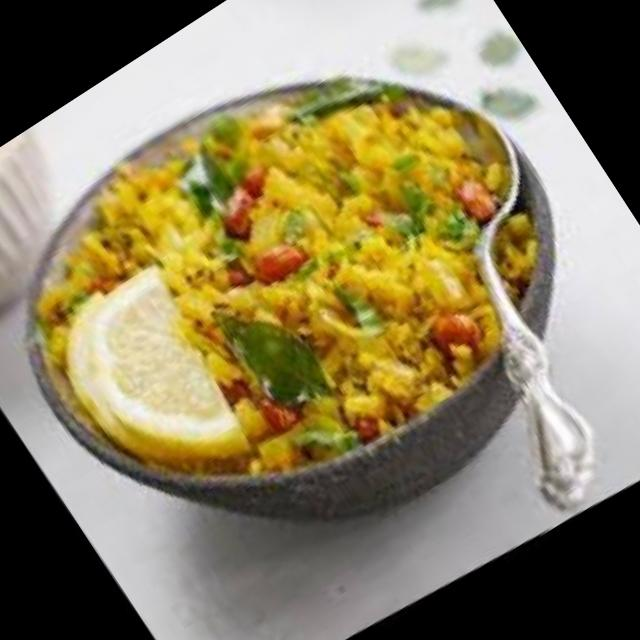poha: (0, 0, 601, 583)
